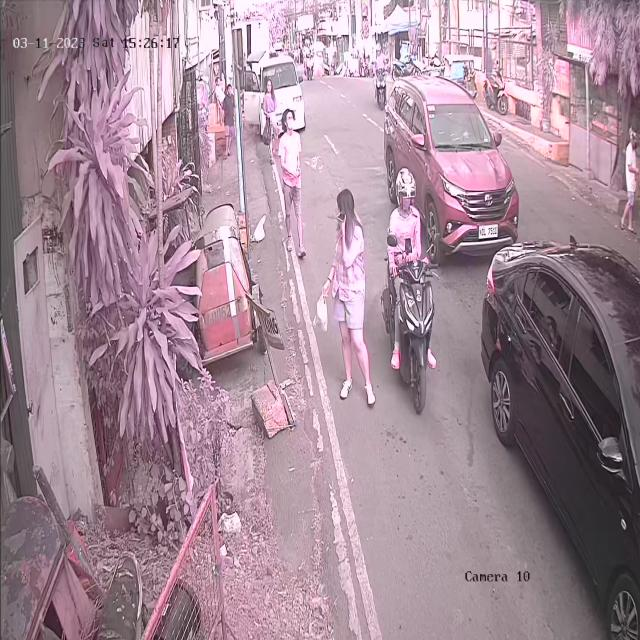garbage_dumping: (314, 280, 332, 339), (251, 211, 271, 251)
